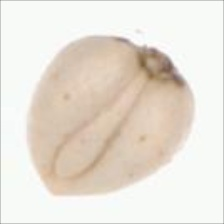L5: (47, 65, 152, 184), (120, 36, 188, 90)
L6: (23, 33, 197, 198)
